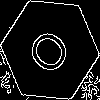O: (25, 25, 80, 84)
